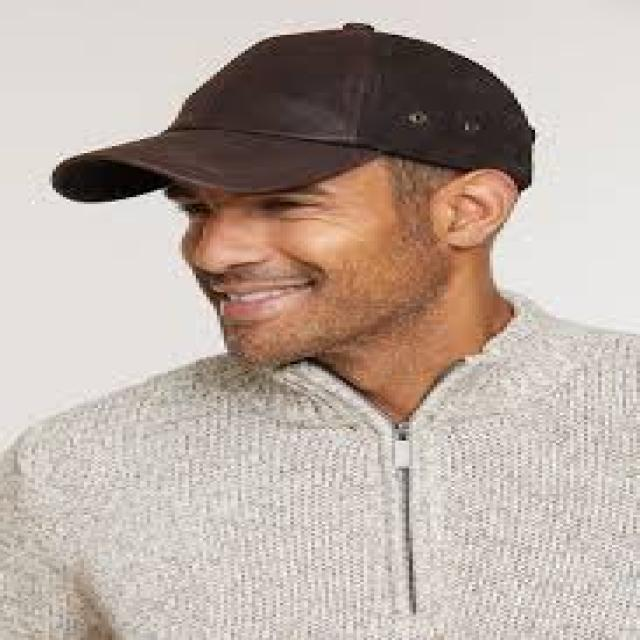cap: (35, 8, 588, 252)
